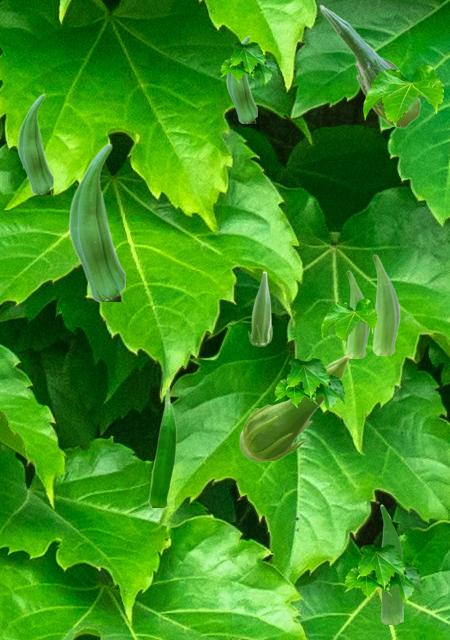okra: (319, 4, 420, 127), (239, 355, 349, 461), (68, 142, 124, 300), (17, 93, 52, 193), (148, 387, 176, 506), (372, 254, 399, 354), (380, 504, 402, 623), (226, 35, 256, 122), (346, 270, 369, 357), (248, 271, 271, 345)
